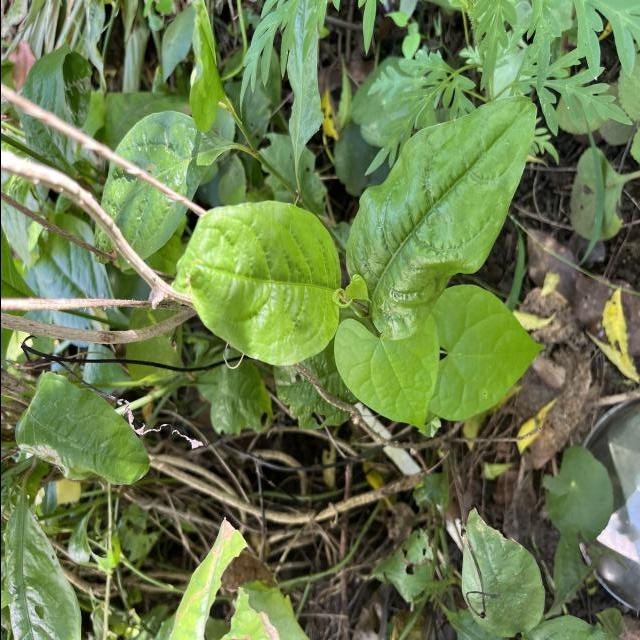Plumbago indica: (342, 92, 538, 342), (172, 198, 344, 370)
